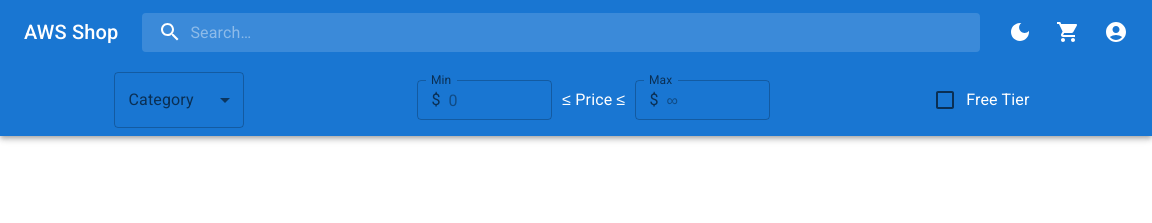
Test: TopBar › should show the profile & logout buttons when logged in
Step 1. Click the button named "account of current user" → (1116, 32), box [1092,8,1140,56]
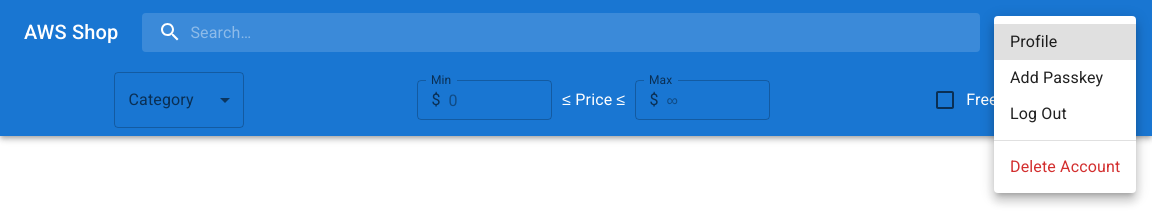
Result: the menu item "Profile" is shown at [994,24,1136,60]
Result: the menu item "Delete Account" is shown at [1010,157,1120,176]
Result: the menu item "Log Out" is shown at [1010,104,1067,123]
